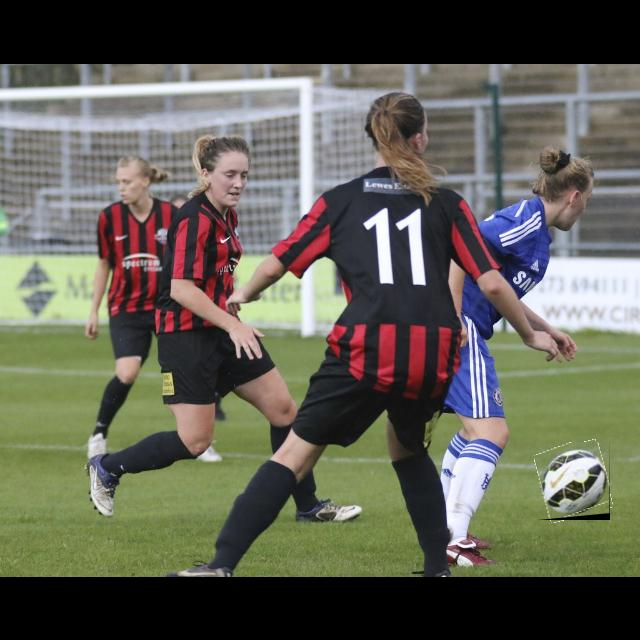Football: (538, 442, 610, 520)
